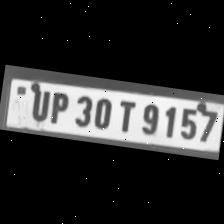0: (90, 92, 116, 129)
1: (157, 102, 180, 138)
3: (68, 90, 94, 128)
5: (174, 103, 200, 140)
7: (195, 106, 219, 142)
9: (135, 99, 162, 136)
P: (45, 88, 71, 125)
T: (112, 96, 138, 132)
U: (25, 84, 52, 121)
